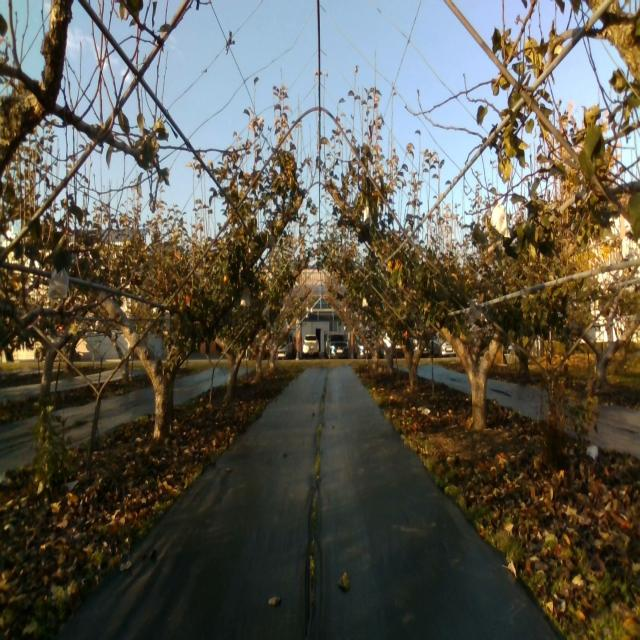pearbags: (491, 202, 511, 239), (47, 269, 69, 298)
